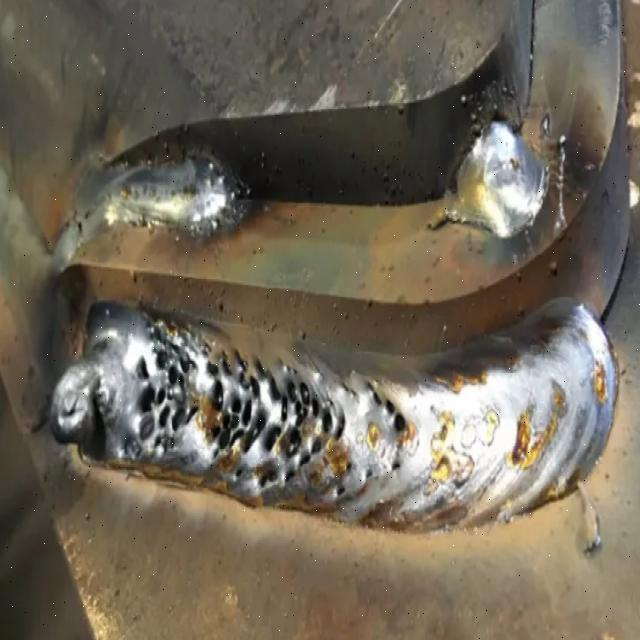Porosity: (124, 304, 349, 498), (360, 375, 410, 440), (389, 452, 404, 478), (335, 483, 348, 499), (364, 466, 375, 484), (344, 459, 352, 474)
